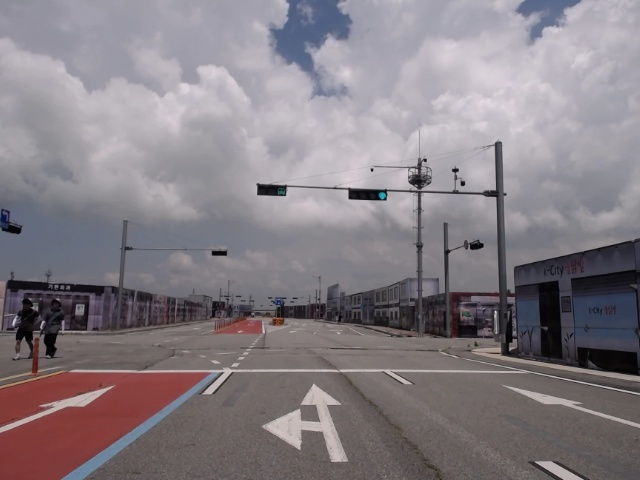straight_green_4: (348, 189, 386, 201)
